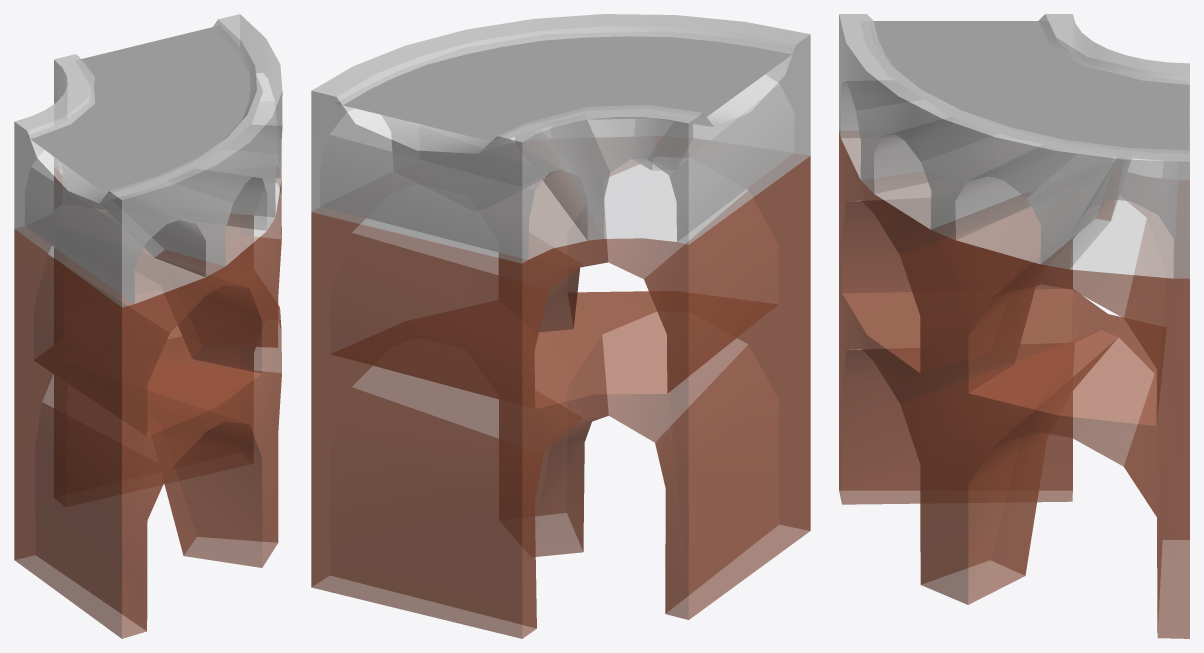
3 views of the same model, side by side, from view 1: azimuth 30°, elevation 25°; view 2: azimuth 150°, elevation 25°; view 3: azimuth 270°, elevation 25° (orthographic). The views are drawn at different scales.
Parts seen in each view (by area): view 1: mesh, pPlane1; view 2: mesh, pPlane1; view 3: mesh, pPlane1.
Part boxes in pixels (<box>): mesh: <box>14,14,282,638</box>; pPlane1: <box>27,25,262,198</box>; mesh: <box>311,14,810,638</box>; pPlane1: <box>335,31,798,142</box>; mesh: <box>839,14,1189,638</box>; pPlane1: <box>860,21,1189,157</box>.
Size of the model in its own units: 75.01 by 112 by 75.01.
